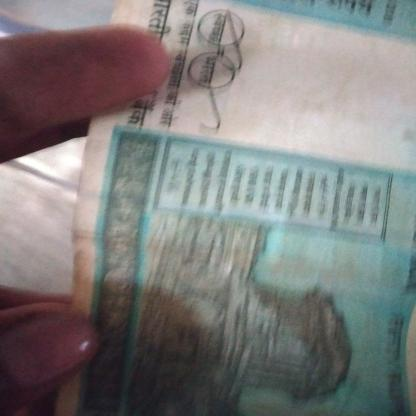New50Back: (105, 1, 415, 415)
